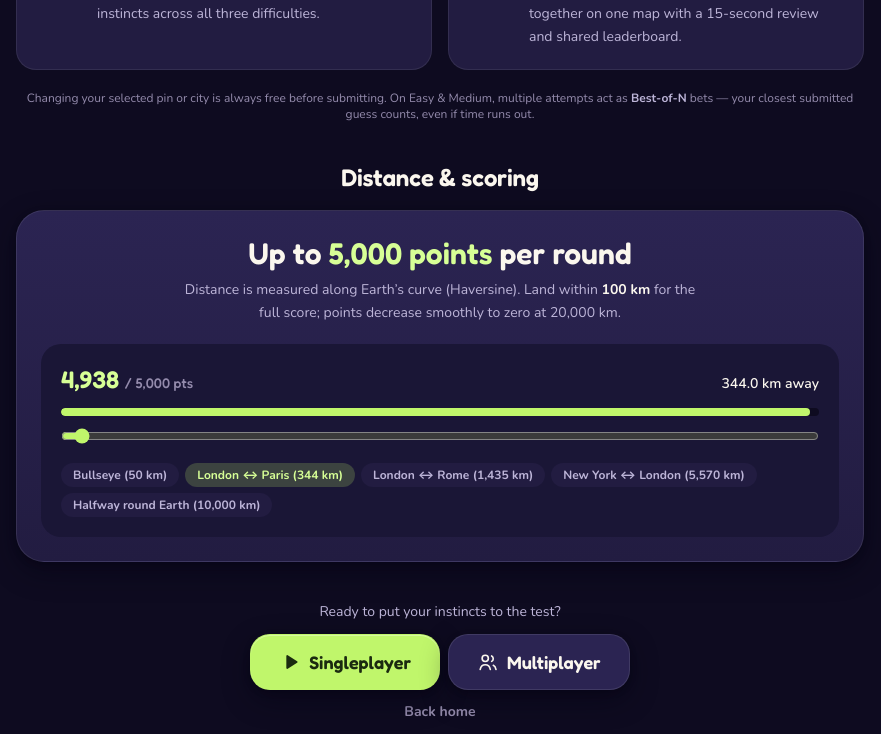
HowToPlayPage › links to both the interactive tutorial and Ultimate Guide and updates the score preview
(page scrolled)
Click the button "Bullseye (50 km)". click: (120, 475)
box: [61, 463, 179, 487]
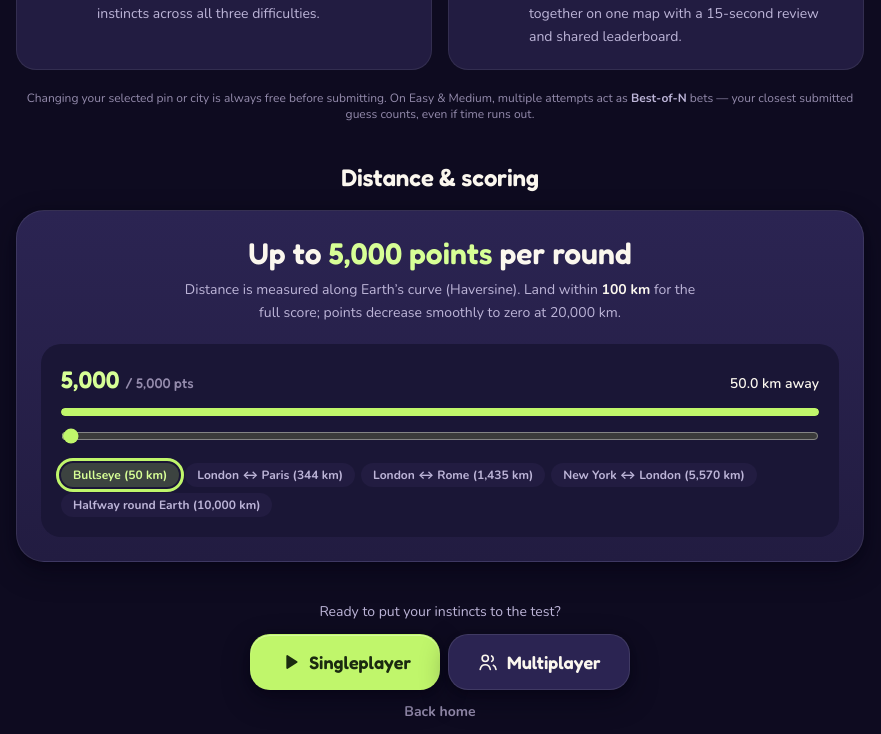
Check: the element named "Preview score" shows "5,000", box [61, 365, 120, 394]
Click the button "Halfway round Earth (10,000 km)". click: (167, 505)
box: [61, 493, 272, 517]
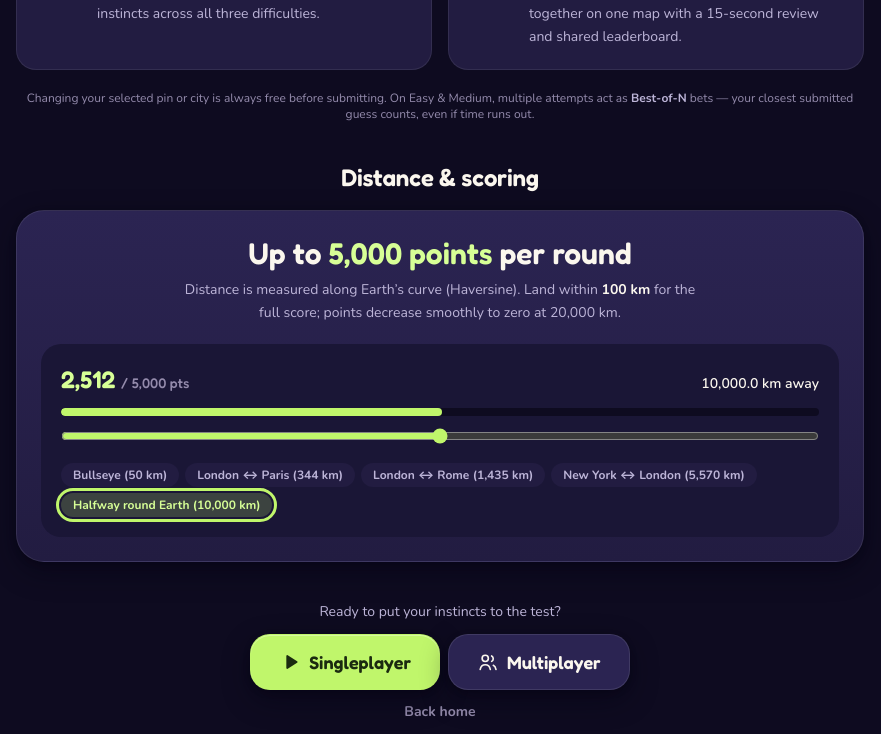
Check: the element named "Preview score" no longer shows "5,000 /", box [61, 364, 190, 396]
